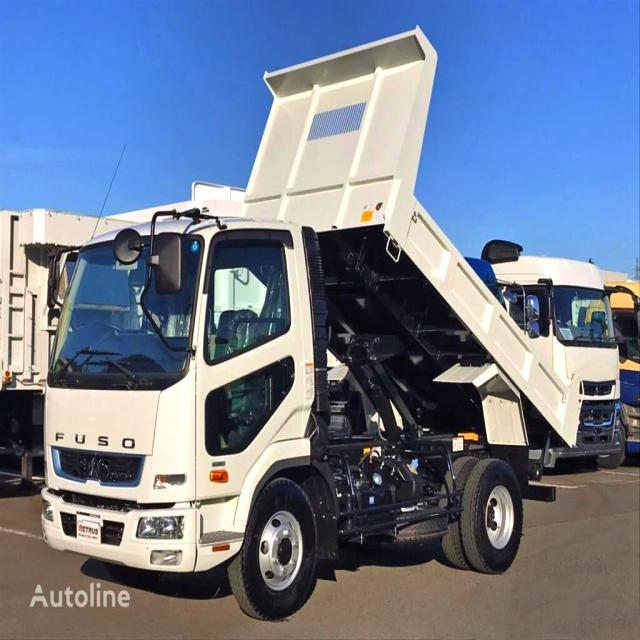truck: (33, 25, 590, 617)
